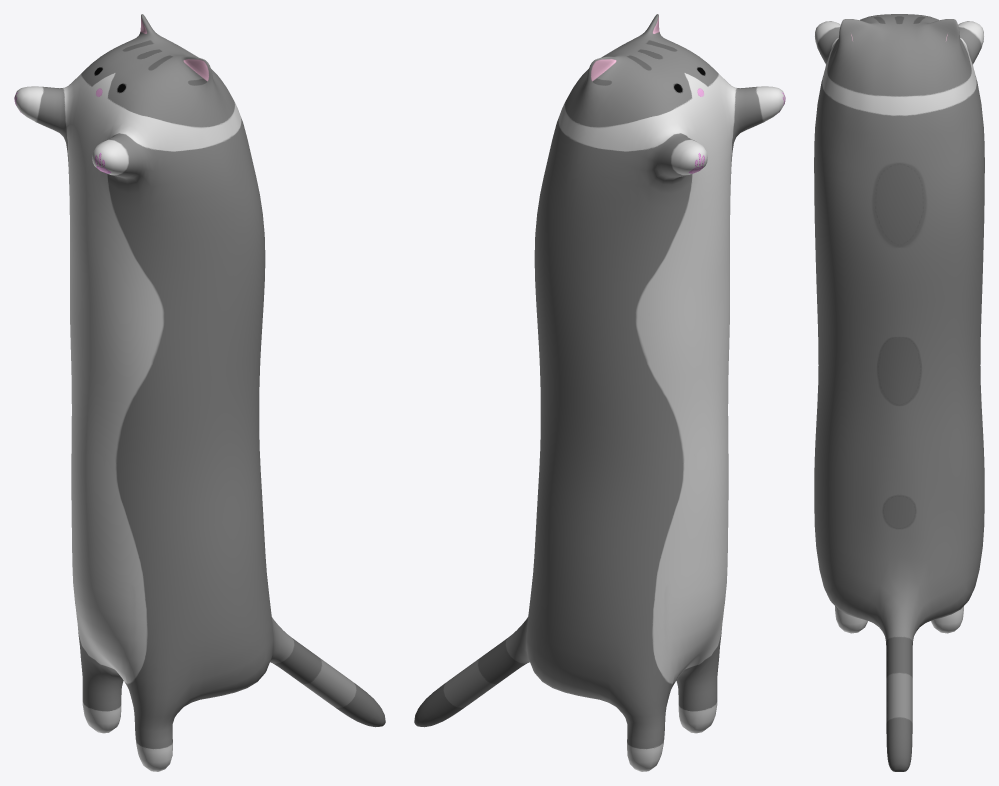
Rendered from toy_cat.glb.
3 views of the same model, side by side, from view 1: azimuth 30°, elevation 25°; view 2: azimuth 150°, elevation 25°; view 3: azimuth 270°, elevation 25° (orthographic). The views are drawn at different scales.
Parts seen in each view (by area): view 1: Toy Cat; view 2: Toy Cat; view 3: Toy Cat.
Boxes of the visible parts, x1,y1,x2,y2 form: Toy Cat: (14,14,385,771); Toy Cat: (414,14,785,771); Toy Cat: (814,14,984,771).
Bounding box in the file's own units: 0.5554 × 1.19 × 0.279.
1 material, 1 textured.
